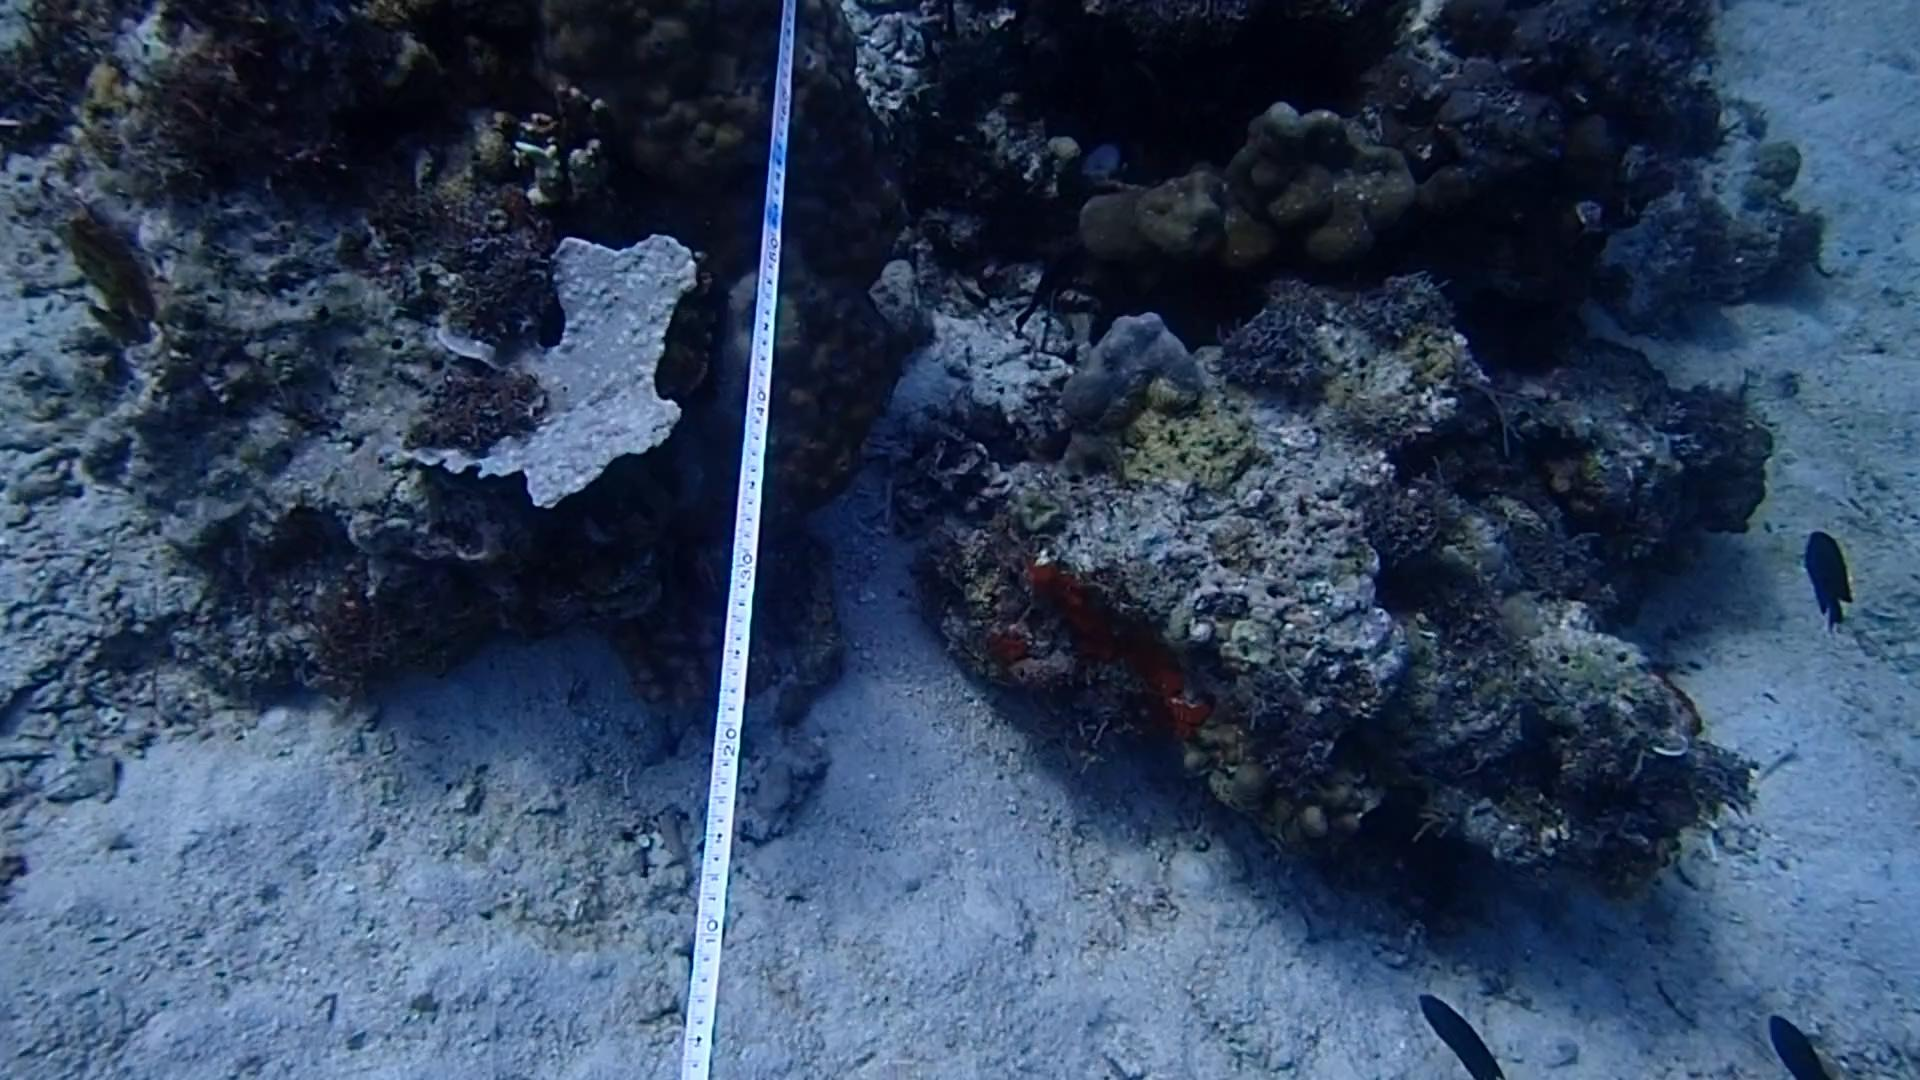Dark Fish: (1400, 980, 1505, 1080), (1797, 514, 1866, 634), (1760, 1006, 1830, 1080)
